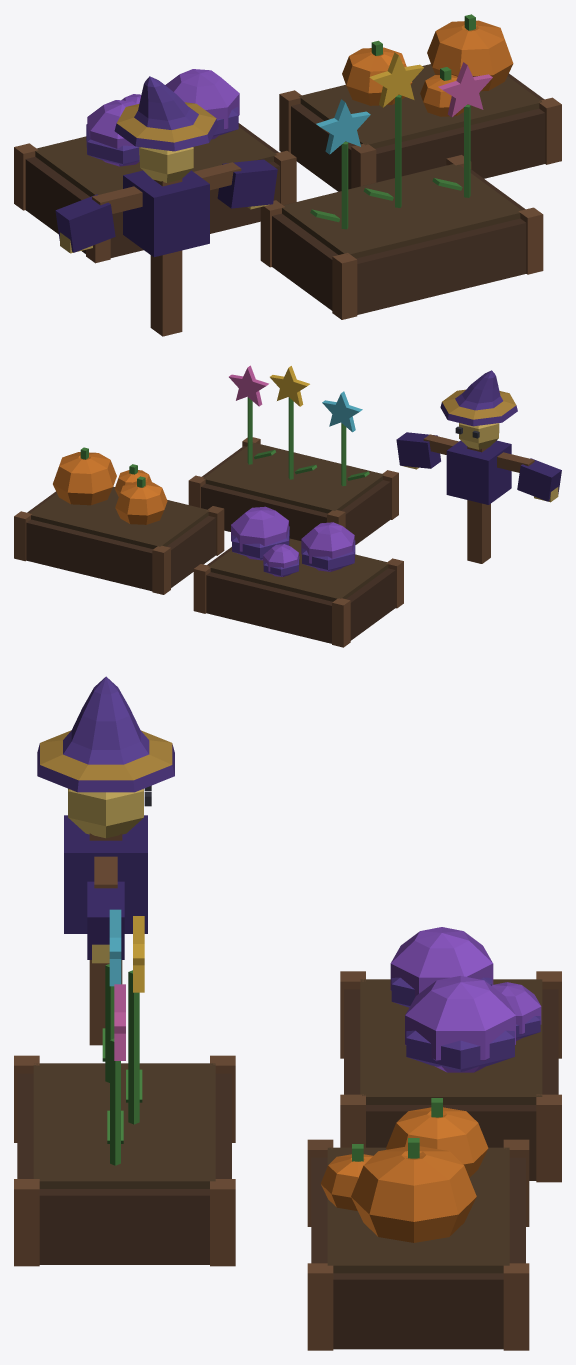
File: Decor_WizardTower_Garden.fbx
3 views of the same model, one above another, from view 1: azimuth 30°, elevation 25°; view 2: azimuth 150°, elevation 25°; view 3: azimuth 270°, elevation 25° (orthographic). The views are drawn at different scales.
Parts seen in each view (by area): view 1: Garden_Body; view 2: Garden_Body; view 3: Garden_Body.
Boxes of the visible parts, x1=… form: Garden_Body: x1=14, y1=14, x2=561, y2=336; Garden_Body: x1=14, y1=365, x2=561, y2=647; Garden_Body: x1=14, y1=676, x2=561, y2=1350.
Size of the model in its own units: 19.1 by 8.2 by 11.6.
